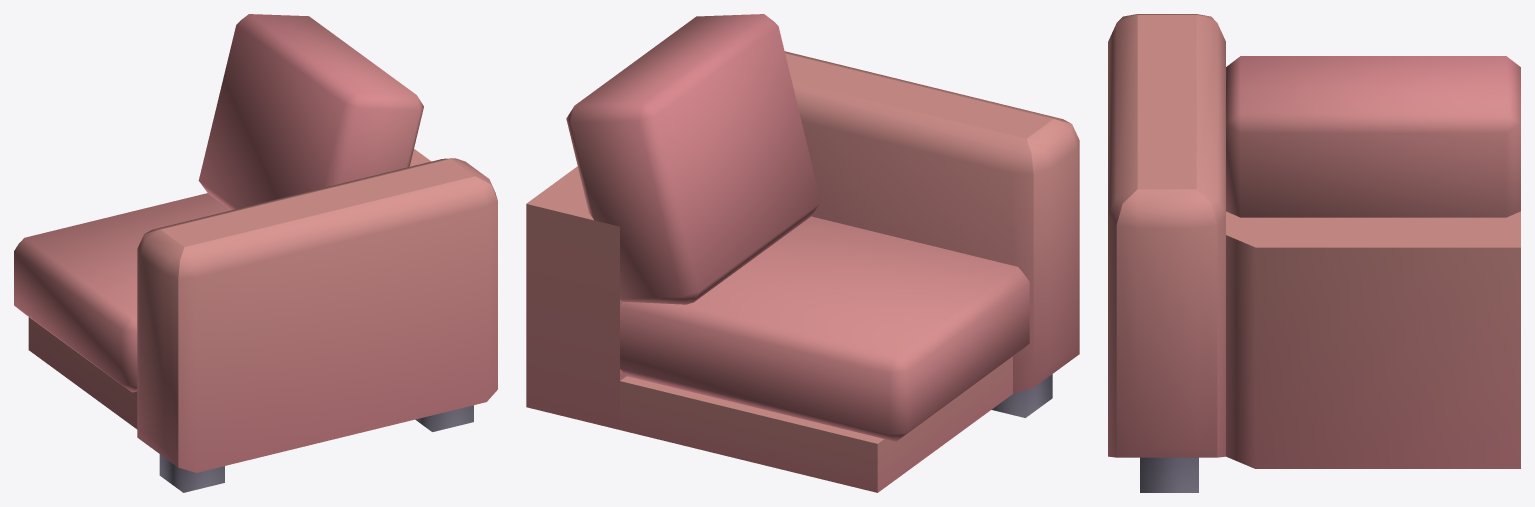
The model's file is amsterdam-sofa-right.glb.
The picture shows the model from 3 angles, left to right: view 1: azimuth 30°, elevation 25°; view 2: azimuth 150°, elevation 25°; view 3: azimuth 270°, elevation 25°; orthographic projection. The views are drawn at different scales.
Visible parts, largest first — view 1: amsterdam-sofa-right; view 2: amsterdam-sofa-right; view 3: amsterdam-sofa-right.
Part boxes in pixels (bbox=[...]): amsterdam-sofa-right: bbox=[14, 14, 497, 492]; amsterdam-sofa-right: bbox=[526, 14, 1079, 492]; amsterdam-sofa-right: bbox=[1108, 14, 1520, 492].
Size of the model in its own units: 0.8 by 0.7323 by 0.7.
